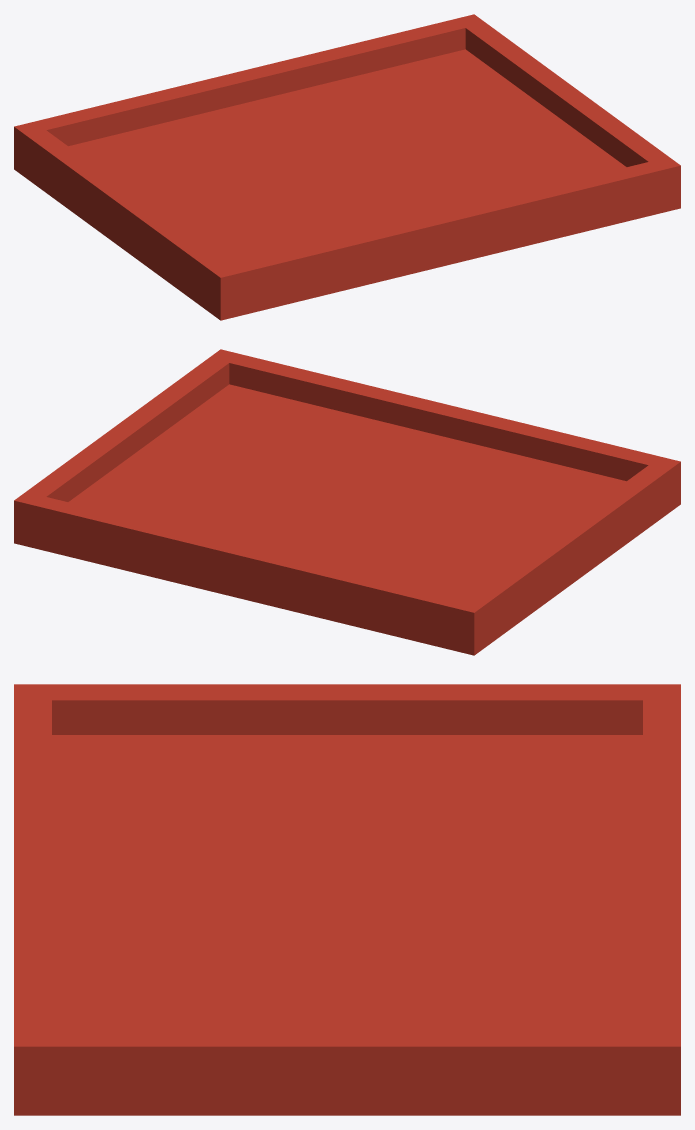
The model's file is tray.glb.
3 renders of one model, top to bottom at view 1: azimuth 30°, elevation 25°; view 2: azimuth 150°, elevation 25°; view 3: azimuth 270°, elevation 25°, orthographic. The views are drawn at different scales.
Visible parts, largest first — view 1: tray; view 2: tray; view 3: tray.
Boxes of the visible parts, x1,y1,x2,y2 form: tray: (14,14,680,320); tray: (14,349,680,655); tray: (14,684,680,1115).
Size of the model in its own units: 0.45 by 0.04 by 0.35.
